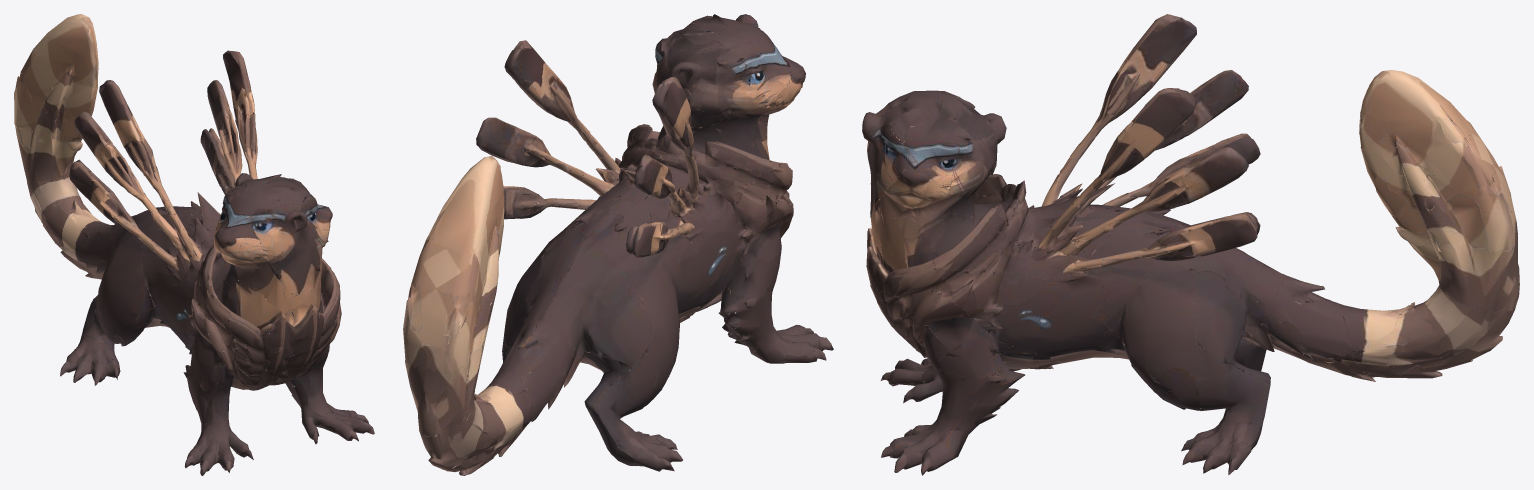
3 renders of one model, left to right at view 1: azimuth 30°, elevation 25°; view 2: azimuth 150°, elevation 25°; view 3: azimuth 270°, elevation 25°, orthographic. The views are drawn at different scales.
Parts seen in each view (by area): view 1: Mesh_0; view 2: Mesh_0; view 3: Mesh_0.
Part boxes in pixels (x1=…): Mesh_0: x1=14, y1=14, x2=374, y2=475; Mesh_0: x1=403, y1=14, x2=833, y2=475; Mesh_0: x1=862, y1=14, x2=1519, y2=475.
Size of the model in its own units: 0.744 by 1.18 by 1.9.
Materials: 1 (1 with a texture image).
